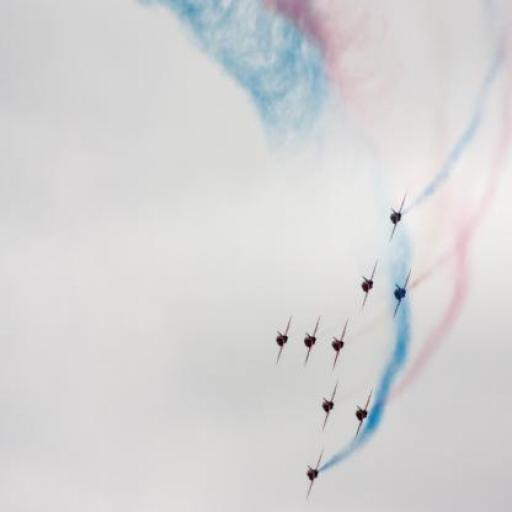aircraft: (387, 189, 409, 243), (331, 316, 350, 372), (355, 386, 374, 436), (303, 316, 321, 366), (393, 269, 412, 315), (361, 257, 379, 305), (275, 315, 293, 363), (305, 452, 323, 500), (322, 383, 337, 431)
